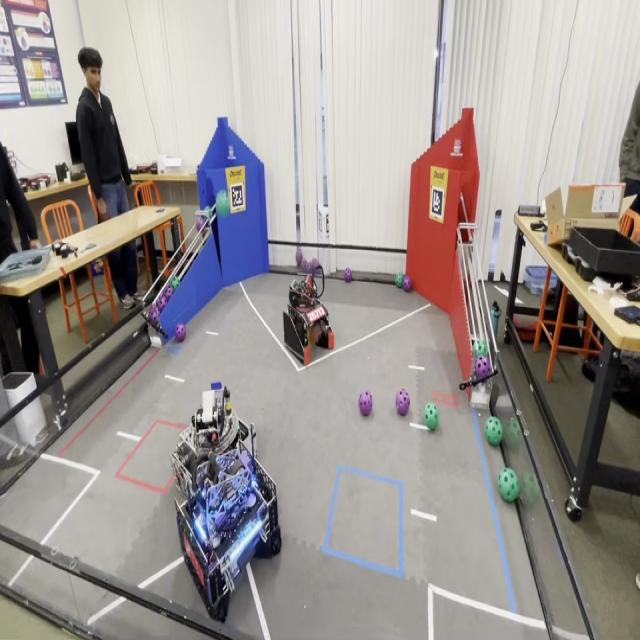artifact_green: (498, 467, 519, 502), (520, 471, 541, 506), (504, 418, 523, 450), (485, 416, 503, 446), (424, 402, 439, 430), (474, 356, 491, 380), (216, 190, 229, 218), (473, 339, 489, 357), (162, 284, 173, 303), (196, 215, 207, 232), (395, 273, 405, 288), (170, 277, 179, 292), (296, 248, 303, 266), (470, 356, 475, 379), (204, 207, 212, 220), (207, 207, 215, 220)
artifact_purple: (475, 356, 491, 379), (396, 389, 409, 415), (359, 390, 372, 415), (148, 305, 159, 325), (156, 294, 167, 312), (175, 323, 185, 342), (163, 285, 173, 303), (196, 216, 206, 232), (403, 275, 411, 292), (310, 258, 319, 273), (296, 248, 303, 266), (344, 268, 352, 283), (300, 259, 309, 272)
